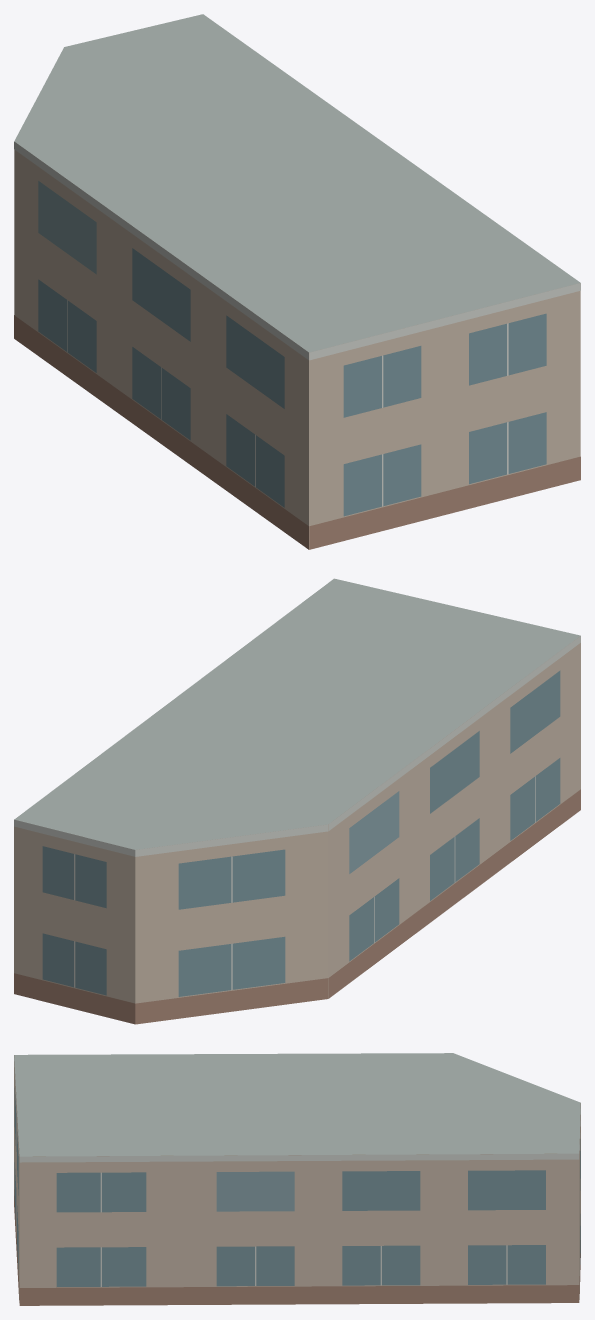
File: survey-upis-32564081.glb
3 renders of one model, top to bottom at view 1: azimuth 30°, elevation 25°; view 2: azimuth 150°, elevation 25°; view 3: azimuth 270°, elevation 25°, orthographic. The views are drawn at different scales.
Parts seen in each view (by area): view 1: survey-upis-32564081.tmp; view 2: survey-upis-32564081.tmp; view 3: survey-upis-32564081.tmp.
Part boxes in pixels (<box>): survey-upis-32564081.tmp: <box>14,14,580,549</box>; survey-upis-32564081.tmp: <box>14,578,580,1024</box>; survey-upis-32564081.tmp: <box>14,1053,580,1305</box>.
Bounding box in the file's own units: 9.08 × 6.1 × 21.
